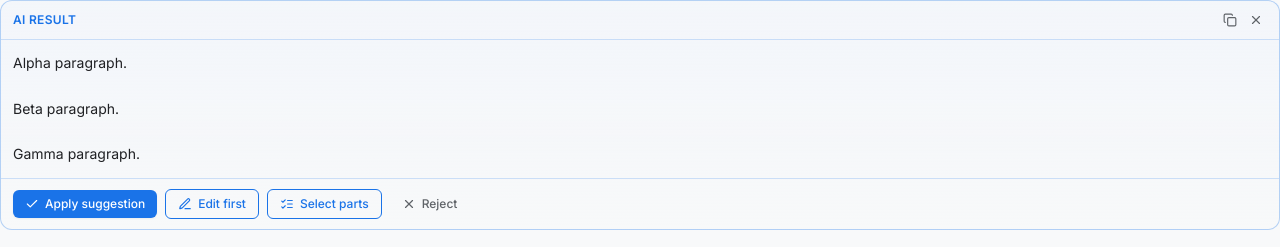
it: AIResultCard › partial acceptance — accepting › accept button is disabled when zero segments are selected
The image size is (1280, 247).
Click the button "Select parts".
click(324, 204)  # box [267,189,382,219]
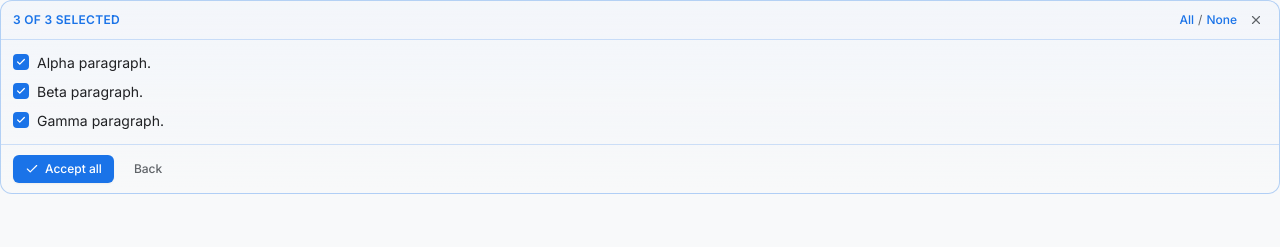
Click the button with aria-label "select no segments".
click(1222, 20)  # box [1206,12,1237,28]
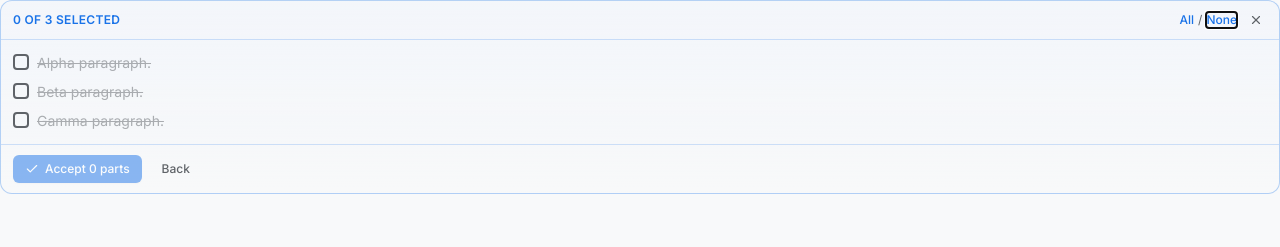
Check: the button "Accept 0 parts" is disabled, box [13,155,142,183]
